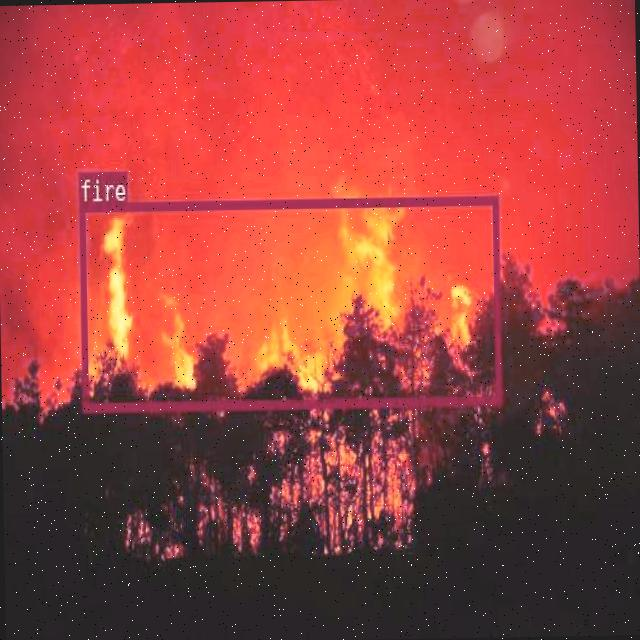fire: (78, 194, 500, 410)
